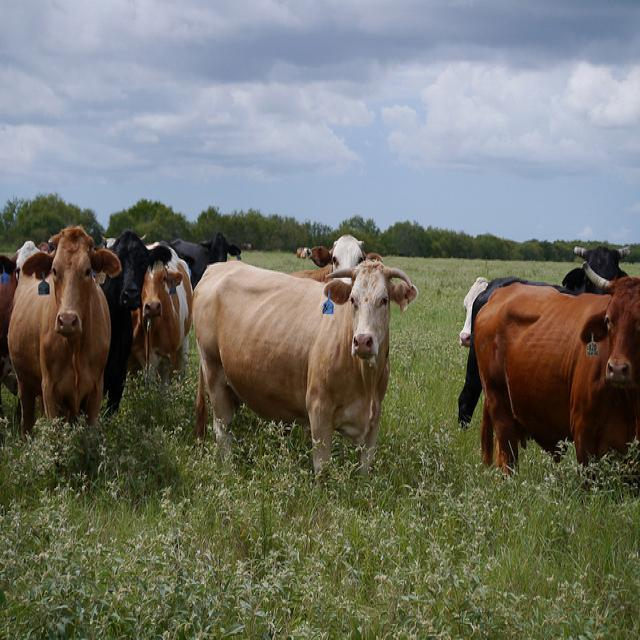cow: (189, 257, 418, 476), (475, 269, 639, 470), (455, 242, 630, 430), (8, 221, 116, 435), (94, 233, 172, 415), (139, 238, 192, 402), (0, 240, 35, 423), (288, 233, 380, 282), (168, 230, 240, 285), (456, 274, 486, 347), (138, 232, 146, 244)
